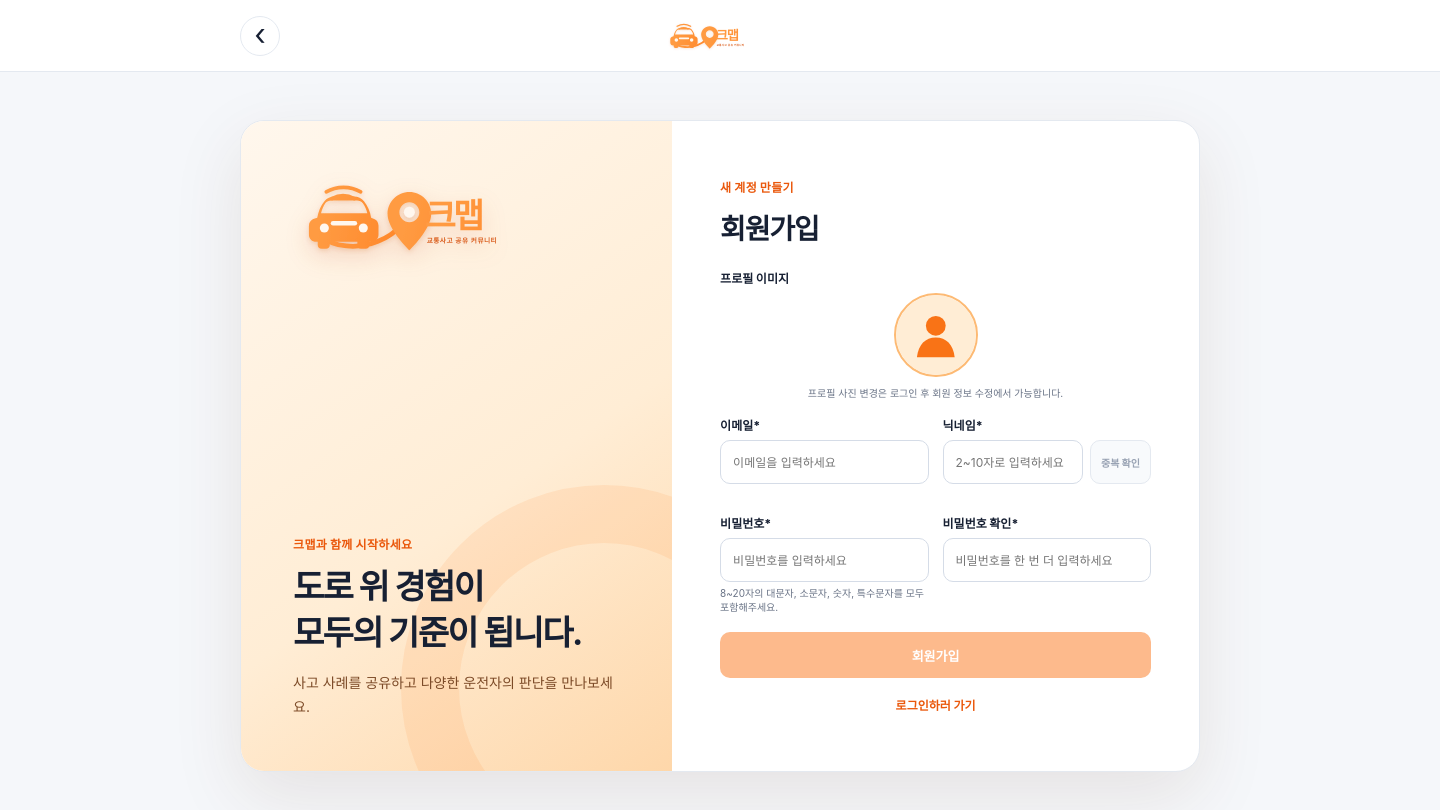
SignupPage › 이미 사용 중인 이메일과 닉네임을 각각 표시한다
The width and height of the screenshot is (1440, 810).
Type "used@example.com" into the field labelled "이메일*".
click(824, 462); type("used@example.com")  # box [720,440,929,484]
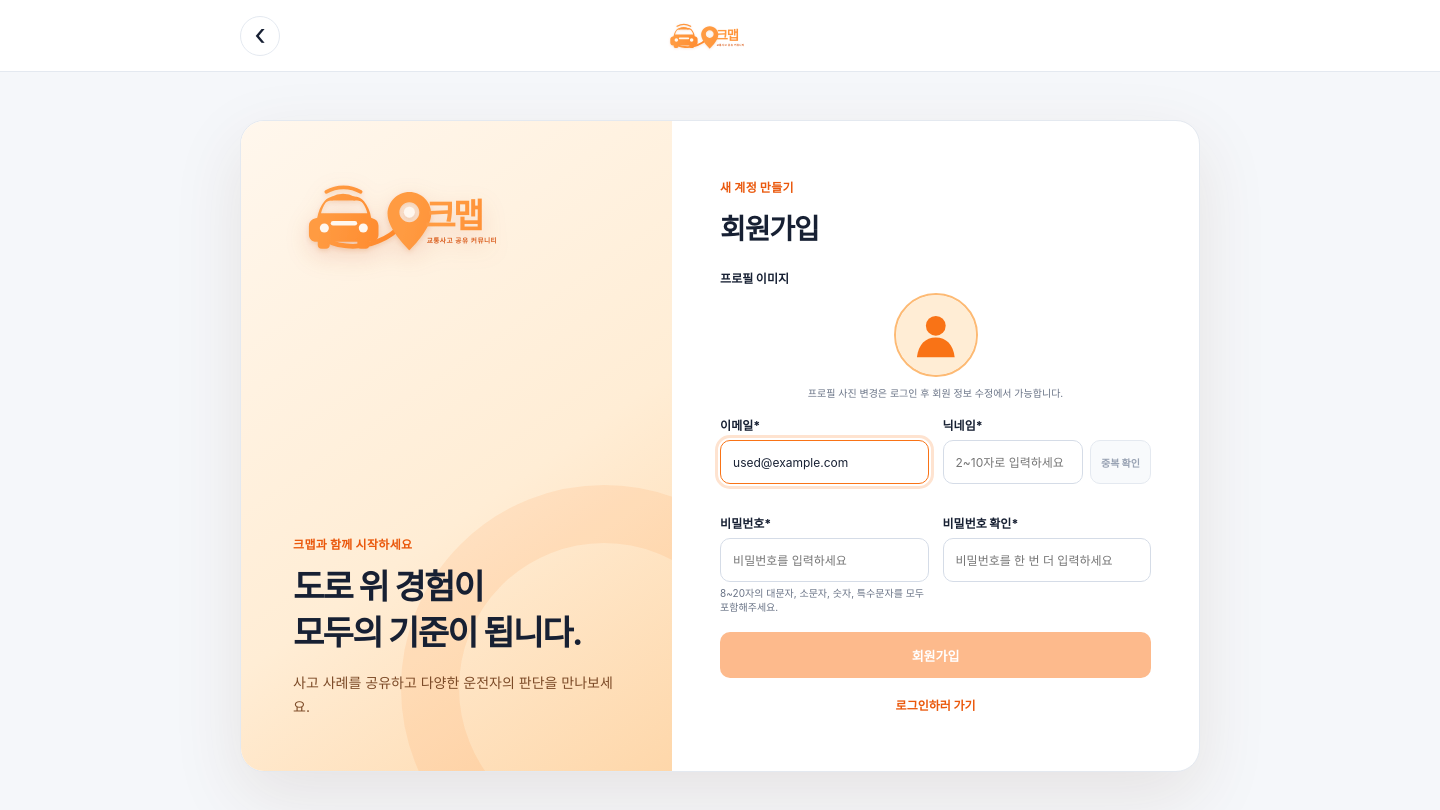
Press Tab
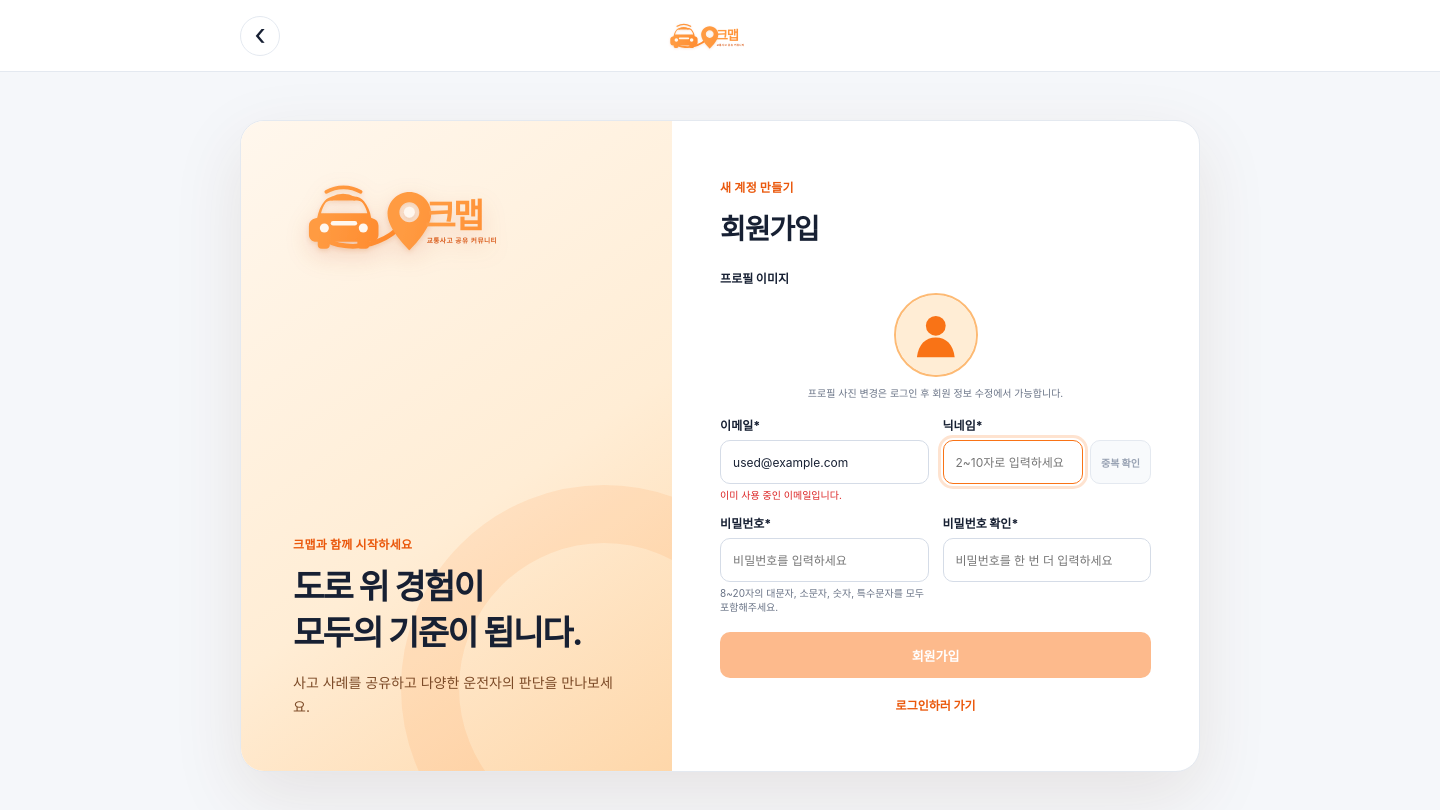
Expected: the text "이미 사용 중인 이메일입니다." is shown, [720,489,842,501]
Type "중복닉네임" into the field labelled "닉네임*".
click(1013, 462); type("중복닉네임")  # box [942,440,1083,484]
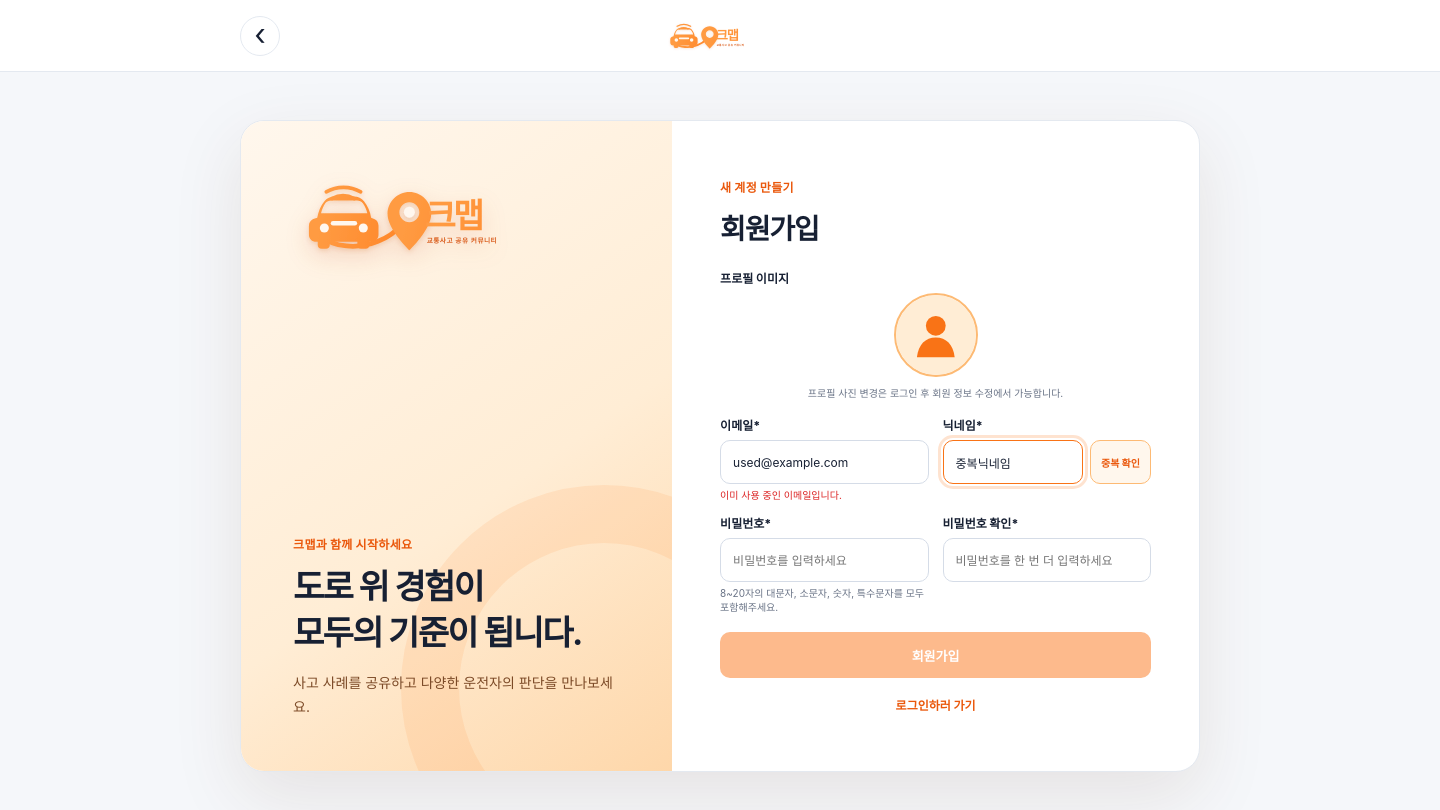
Click the button "중복 확인".
click(1120, 462)  # box [1090,440,1151,484]
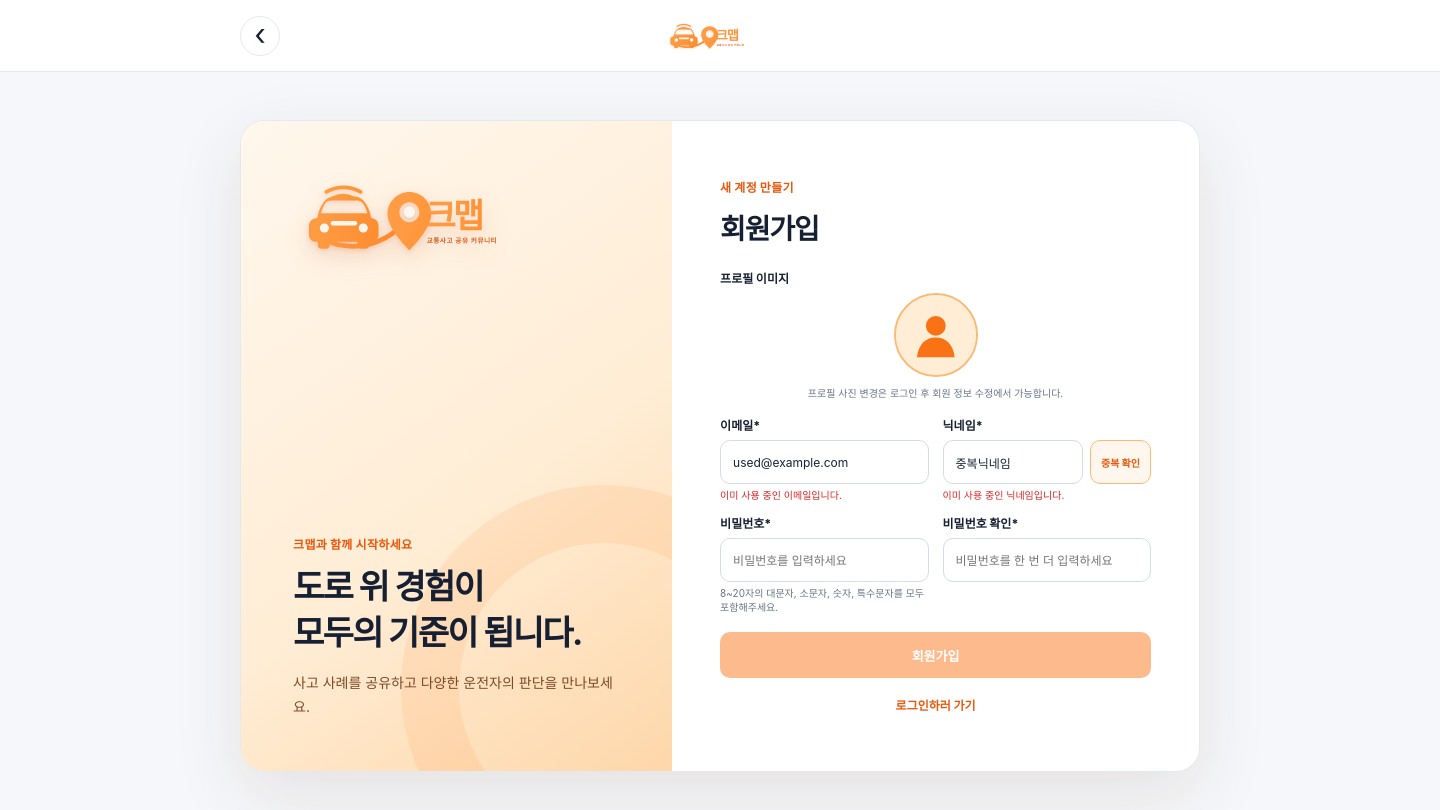
Expected: the button "회원가입" is disabled, [720,632,1151,678]
Expected: the text "이미 사용 중인 닉네임입니다." is shown, [942,489,1064,501]
